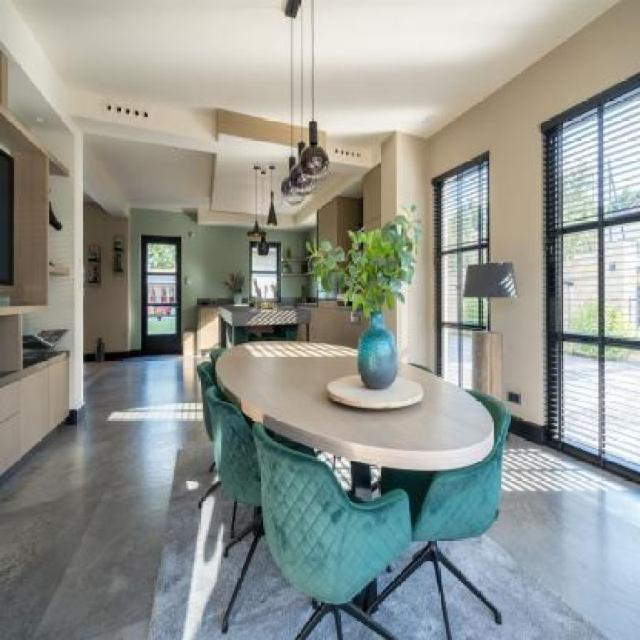floor: (0, 355, 223, 639), (438, 435, 640, 640)
